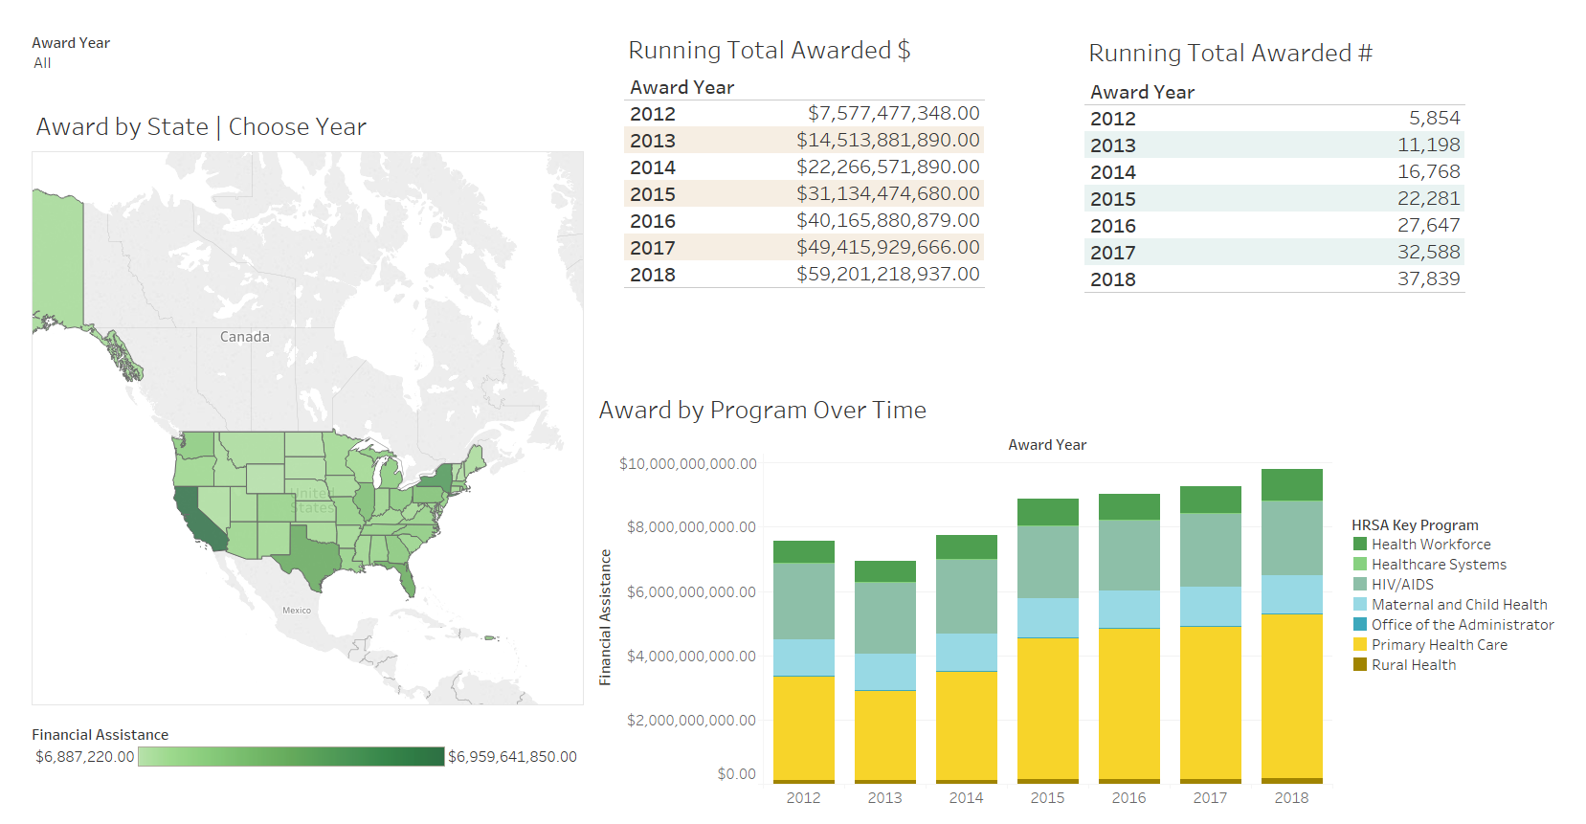

The dashboard page shown, as its layout file describes it:
{"tool":"tableau","page":{"name":"Overview","canvas":[1000,1000],"units":"permille","ordinal":2},"visuals":[{"type":"worksheet","title":"Running Total Awarded $","mark":"Automatic","rows":["Award Year"],"box":[393.5,32.5,271,435.5]},{"type":"worksheet","title":"Running Total Awarded #","mark":"Automatic","rows":["Award Year"],"box":[683.8,36,260.7,432.1]},{"type":"filter","title":"Award by State | Year","param":"[federated.1ukabbe00wwjyq1djjiwl0kc8hmf].[none:Award Year:ok]","box":[19.9,38.3,348.2,70.9]},{"type":"worksheet","title":"Award by State | Year","mark":"Multipolygon","box":[19.9,125.4,348.2,730.6]},{"type":"worksheet","title":"Award by Program Over Time","mark":"Automatic","rows":["Financial Assistance"],"cols":["Award Year"],"box":[374.8,469.2,465.3,511]},{"type":"legend","title":"Award by Program Over Time","param":"[federated.1ukabbe00wwjyq1djjiwl0kc8hmf].[none:HRSA Key Program:nk]","box":[851.5,622.5,131.6,351.9]},{"type":"legend","title":"Award by State | Year","param":"[federated.1ukabbe00wwjyq1djjiwl0kc8hmf].[sum:Financial Assistance:qk]","box":[19.9,874.6,347,102.2]}]}

Visuals, with their boxes on the dashboard's canvas, which has no fixed pixel size, in thousandths of its width and height (x1, y1, x2, y2). These are canvas units, not pixel positions in the 1586x824 screenshot, which may show the page scaled, cropped or inside an application window:
"Running Total Awarded $" worksheet: [left=394, top=32, right=664, bottom=468]
"Running Total Awarded #" worksheet: [left=684, top=36, right=944, bottom=468]
"Award by State | Year" filter: [left=20, top=38, right=368, bottom=109]
"Award by State | Year" worksheet (Multipolygon marks): [left=20, top=125, right=368, bottom=856]
"Award by Program Over Time" worksheet: [left=375, top=469, right=840, bottom=980]
"Award by Program Over Time" legend: [left=852, top=622, right=983, bottom=974]
"Award by State | Year" legend: [left=20, top=875, right=367, bottom=977]
